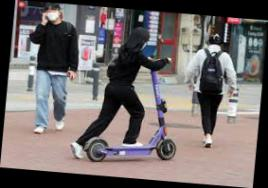nonhelmet: (68, 22, 188, 169)
